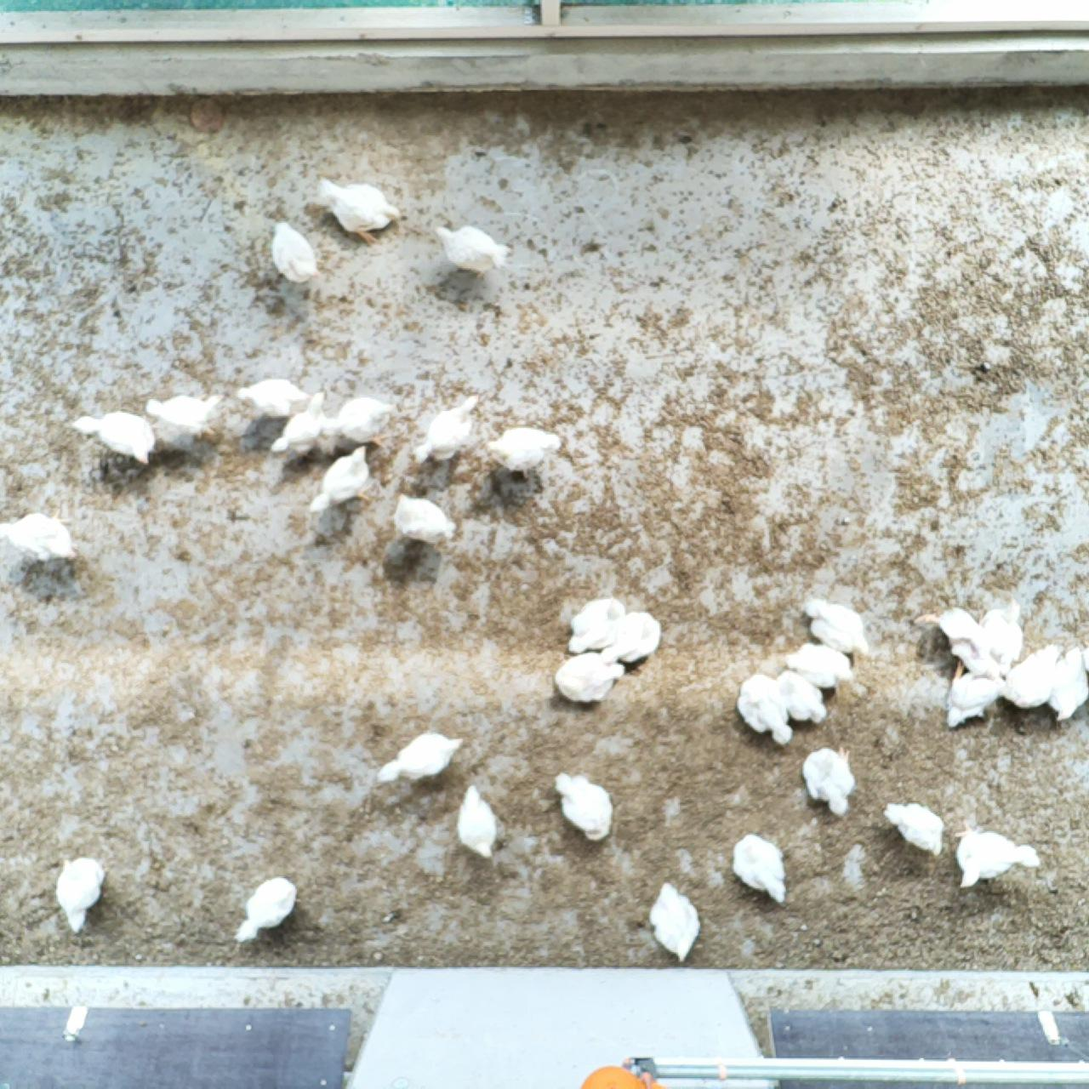chicken: (311, 171, 404, 248), (951, 821, 1043, 893), (299, 440, 378, 519), (916, 600, 994, 678), (69, 408, 164, 472), (231, 869, 301, 946), (414, 387, 483, 465), (0, 508, 85, 571), (549, 769, 614, 846), (798, 590, 876, 654), (648, 878, 706, 964), (479, 420, 564, 478), (728, 828, 791, 906), (268, 389, 332, 465), (142, 390, 233, 442), (431, 217, 515, 273), (53, 851, 108, 936), (378, 729, 462, 784), (945, 660, 1010, 731), (736, 666, 793, 746), (997, 641, 1067, 706), (975, 593, 1029, 676), (551, 647, 627, 705), (879, 796, 947, 859), (780, 638, 859, 692), (802, 740, 858, 815), (321, 392, 398, 446), (770, 662, 831, 730), (385, 489, 459, 545), (1041, 641, 1089, 727), (564, 593, 631, 654), (454, 780, 500, 862), (600, 607, 665, 664), (238, 374, 313, 423), (267, 219, 320, 284)
